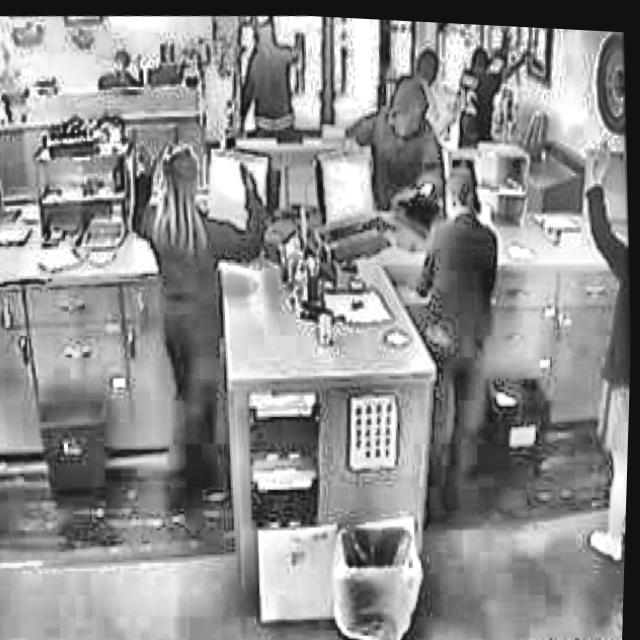robbery: (337, 60, 463, 246), (119, 132, 279, 276), (433, 18, 543, 137), (224, 9, 314, 148)
